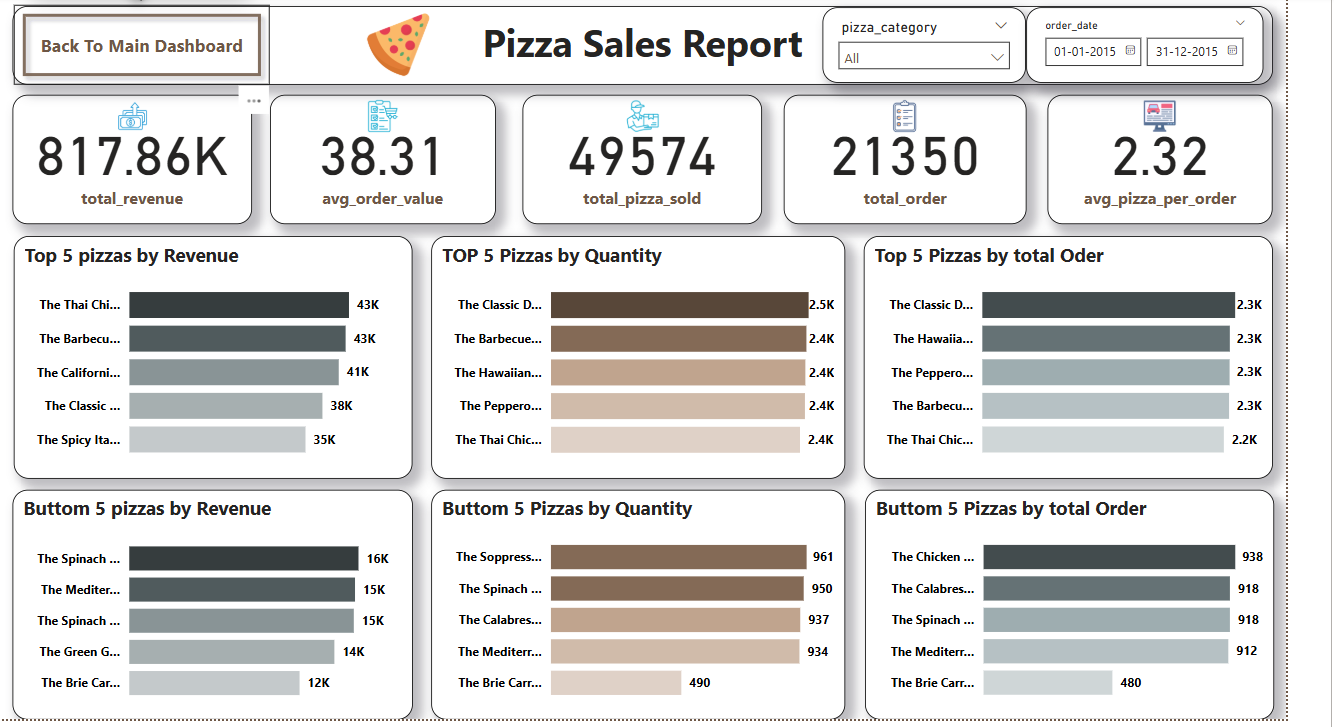

This screenshot's page, from the dashboard's own definition file:
{"tool":"powerbi","page":{"name":"performance_best_wrost_seller","canvas":[1280,720],"ordinal":1},"visuals":[{"type":"card","fields":{"Values":["pizza_sales.total_revenue"]},"box":[12.3,98.8,238.8,129],"z":0},{"type":"card","fields":{"Values":["pizza_sales.total_order"]},"box":[779.4,98.8,241.5,129],"z":1000},{"type":"card","fields":{"Values":["pizza_sales.avg_order_value"]},"box":[269,98.8,225,129],"z":2000},{"type":"card","fields":{"Values":["pizza_sales.avg_pizza_per_order"]},"box":[1042.9,98.8,223.7,129],"z":3000},{"type":"card","fields":{"Values":["pizza_sales.total_pizza_sold"]},"box":[520.1,98.8,238.8,129],"z":4000},{"type":"textbox","box":[12.3,9.6,1254.2,78.2],"z":5000},{"type":"image","box":[316,11.2,160.5,74.6],"z":6000},{"type":"image","box":[12.3,98.8,238.8,42.5],"z":7000},{"type":"image","box":[269,98.8,225,42.5],"z":8000},{"type":"image","box":[520.1,98.8,238.8,42.5],"z":9000},{"type":"image","box":[779.4,98.8,241.5,42.5],"z":10000},{"type":"image","box":[1042.9,98.8,223.7,42.5],"z":11000},{"type":"barChart","title":"Top 5 pizzas by Revenue","fields":{"Y":["pizza_sales.total_revenue"],"Category":["pizza_sales.pizza_name"]},"box":[13.7,238.8,396.8,241.3],"z":12000},{"type":"barChart","title":"TOP 5 Pizzas by Quantity","fields":{"Category":["pizza_sales.pizza_name"],"Y":["pizza_sales.total_pizza_sold"]},"box":[429.5,238.8,411.7,241.5],"z":13000},{"type":"barChart","title":"Buttom  5  pizzas by Revenue","fields":{"Category":["pizza_sales.pizza_name"],"Y":["pizza_sales.total_revenue"]},"box":[12.4,491.4,398.1,228.9],"z":14000},{"type":"slicer","fields":{"Values":["pizza_sales.pizza_category"]},"box":[818.8,11.2,202.5,75],"z":15000},{"type":"slicer","fields":{"Values":["pizza_sales.order_date"]},"box":[1021.2,11.2,236.2,75],"z":16000},{"type":"barChart","title":"Top 5 Pizzas by total Oder","fields":{"Category":["pizza_sales.pizza_name"],"Y":["pizza_sales.total_order"]},"box":[859,238.8,407.5,241.5],"z":17000},{"type":"barChart","title":"Buttom 5 Pizzas by Quantity","fields":{"Category":["pizza_sales.pizza_name"],"Y":["pizza_sales.total_pizza_sold"]},"box":[429.5,491.3,411.7,229.2],"z":18000},{"type":"barChart","title":"Buttom 5 Pizzas by total Order","fields":{"Category":["pizza_sales.pizza_name"],"Y":["pizza_sales.total_order"]},"box":[860.4,491.3,407.5,229.2],"z":19000},{"type":"actionButton","box":[13.8,8.8,255,80],"z":19001}]}

Visuals, with their boxes on the page's 1280x720 design canvas (x1, y1, x2, y2). These are canvas units, not pixel positions in the 1334x727 screenshot, which may show the page scaled, cropped or inside an application window:
card - pizza_sales.total_revenue: 12 99 251 228
card - pizza_sales.total_order: 779 99 1021 228
card - pizza_sales.avg_order_value: 269 99 494 228
card - pizza_sales.avg_pizza_per_order: 1043 99 1267 228
card - pizza_sales.total_pizza_sold: 520 99 759 228
textbox: 12 10 1266 88
image: 316 11 476 86
image: 12 99 251 141
image: 269 99 494 141
image: 520 99 759 141
image: 779 99 1021 141
image: 1043 99 1267 141
"Top 5 pizzas by Revenue" barChart: 14 239 410 480
"TOP 5 Pizzas by Quantity" barChart: 430 239 841 480
"Buttom  5  pizzas by Revenue" barChart: 12 491 410 720
slicer - pizza_sales.pizza_category: 819 11 1021 86
slicer - pizza_sales.order_date: 1021 11 1257 86
"Top 5 Pizzas by total Oder" barChart: 859 239 1266 480
"Buttom 5 Pizzas by Quantity" barChart: 430 491 841 720
"Buttom 5 Pizzas by total Order" barChart: 860 491 1268 720
actionButton: 14 9 269 89
